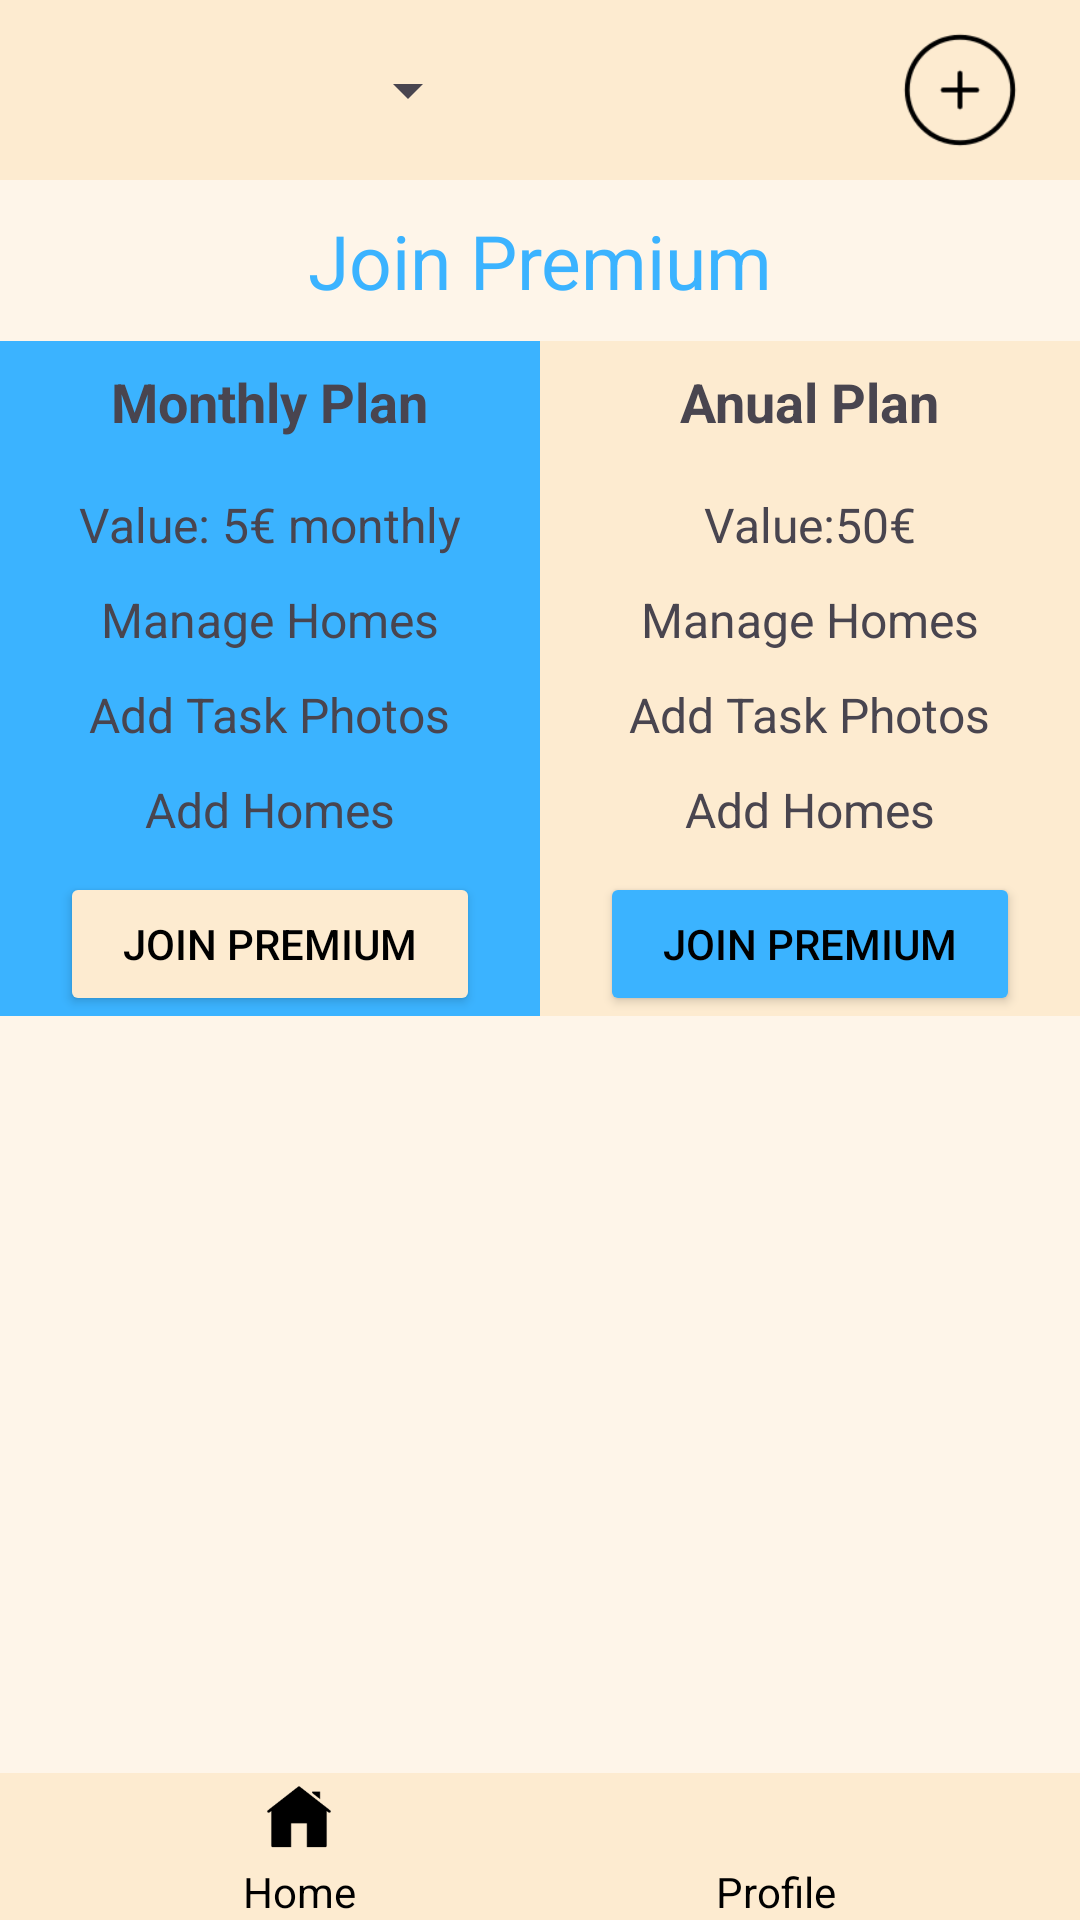

Where to tap for icons on this 1080px x 1920px app screen, as (x=x, y=y):
add: (x=960, y=90)
